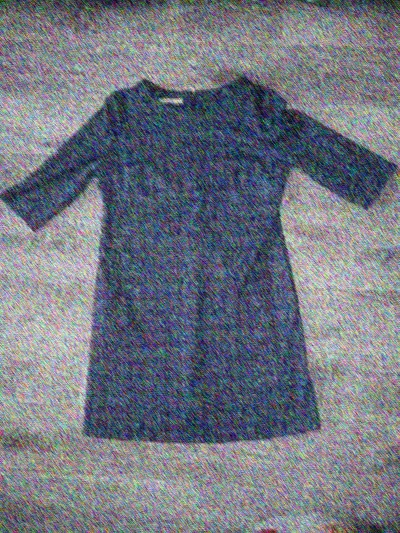Dress: (0, 69, 394, 455)
